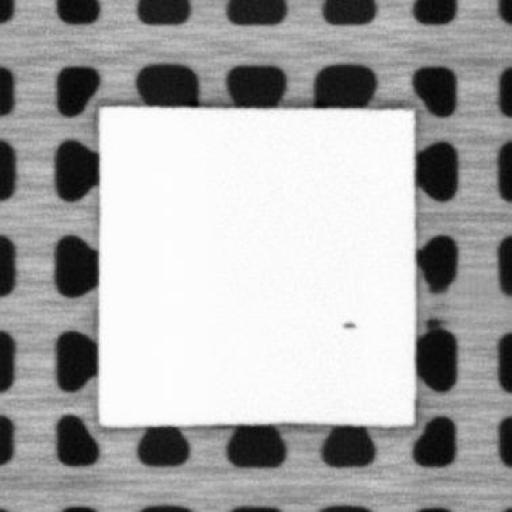DIE_INK: (339, 318, 355, 328)
